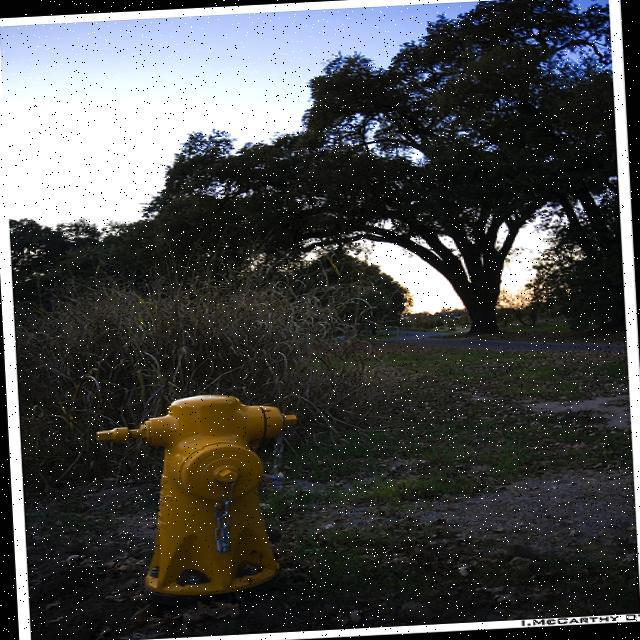fire_hydrant: (86, 388, 306, 603)
